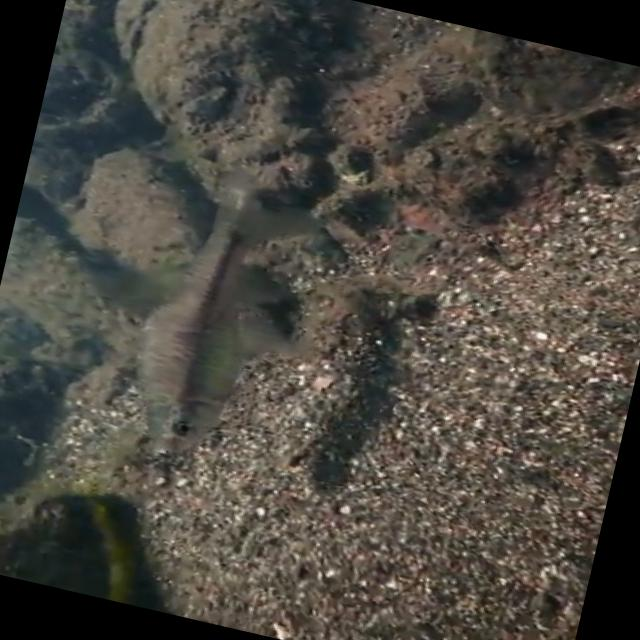Cakil Baligi: (95, 155, 338, 492)
